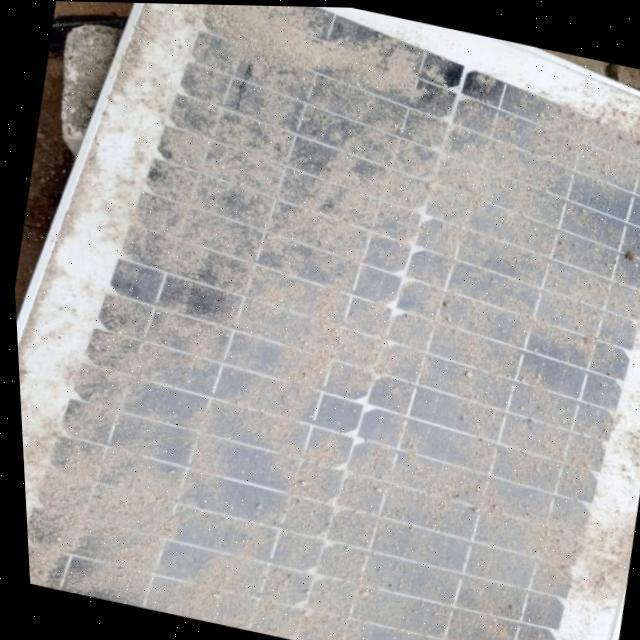Anomaly Solar Panel: (0, 0, 640, 640)
Surface Contaminant: (62, 15, 640, 640)
